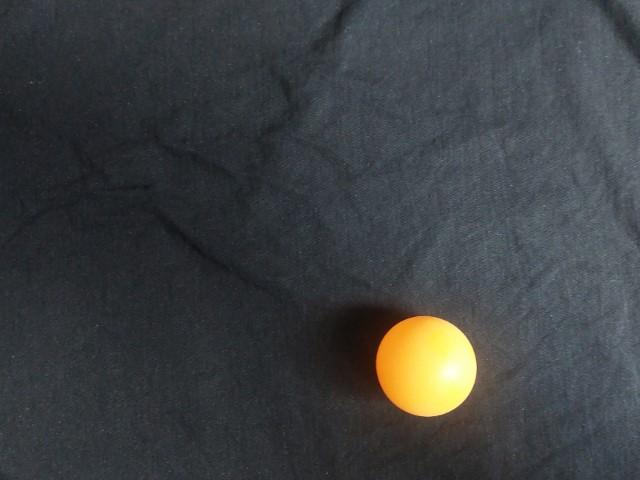oball: (151, 56, 275, 177)
